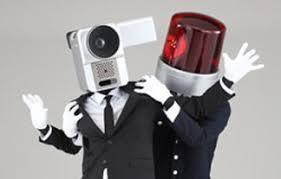no more kid: (63, 15, 156, 91)
